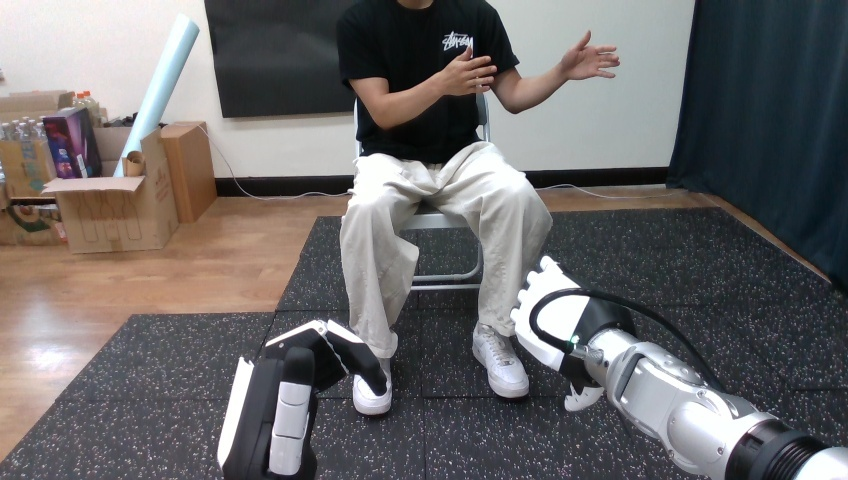left robot hand: (511, 256, 847, 479), (217, 320, 389, 479), (558, 31, 619, 81), (437, 46, 496, 95)
